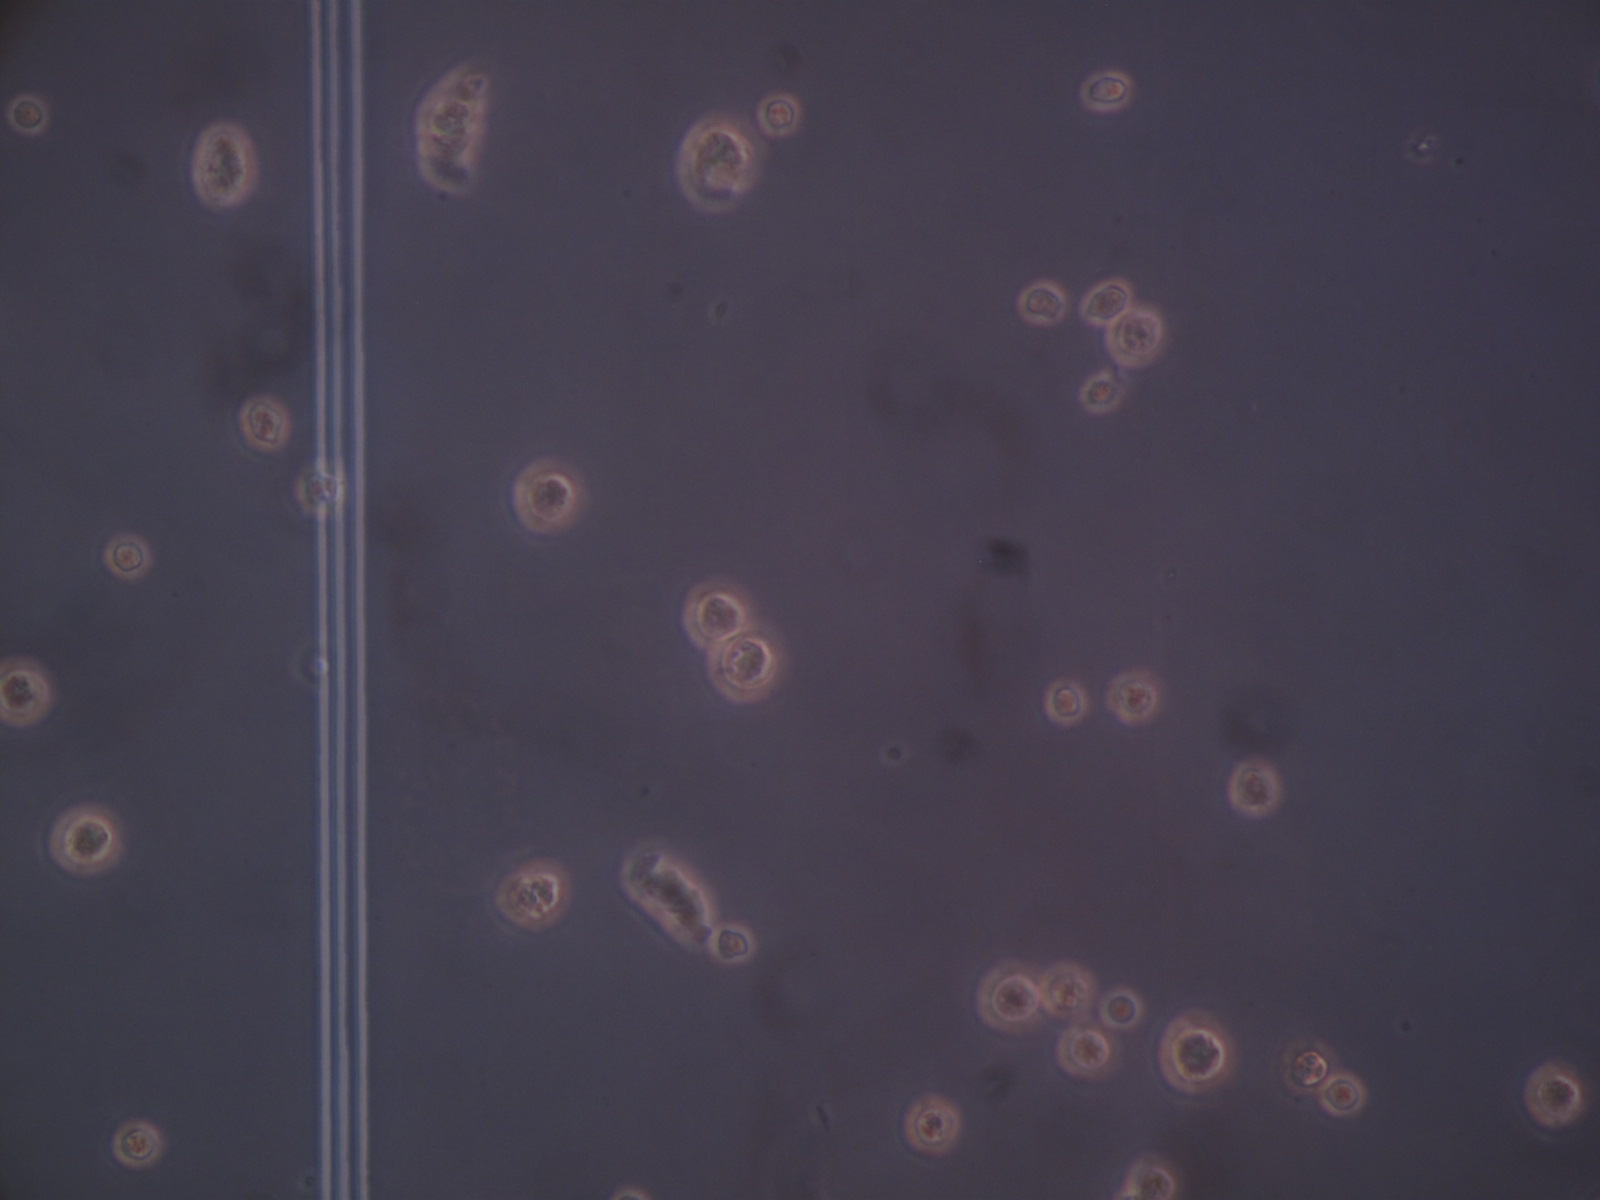hemo: (679, 113, 751, 216), (1157, 1008, 1238, 1094), (193, 118, 257, 209), (49, 804, 123, 879), (496, 858, 572, 930), (514, 459, 585, 536), (708, 634, 787, 701), (682, 580, 753, 650), (980, 962, 1044, 1036), (1, 655, 55, 729), (1524, 1063, 1585, 1127), (1038, 962, 1099, 1022), (1280, 1037, 1337, 1097), (1107, 310, 1163, 371), (905, 1097, 961, 1155), (1227, 760, 1285, 817), (1107, 671, 1162, 726), (296, 460, 346, 519), (1056, 1027, 1114, 1076), (1078, 275, 1130, 328), (239, 397, 290, 451), (1128, 1155, 1179, 1200), (1015, 280, 1066, 324), (105, 534, 152, 580), (1082, 71, 1133, 113), (1046, 677, 1087, 727), (1078, 369, 1123, 416), (113, 1121, 160, 1165), (1318, 1075, 1364, 1116), (758, 95, 801, 137), (1099, 987, 1141, 1029), (713, 924, 753, 966), (8, 95, 48, 134)
